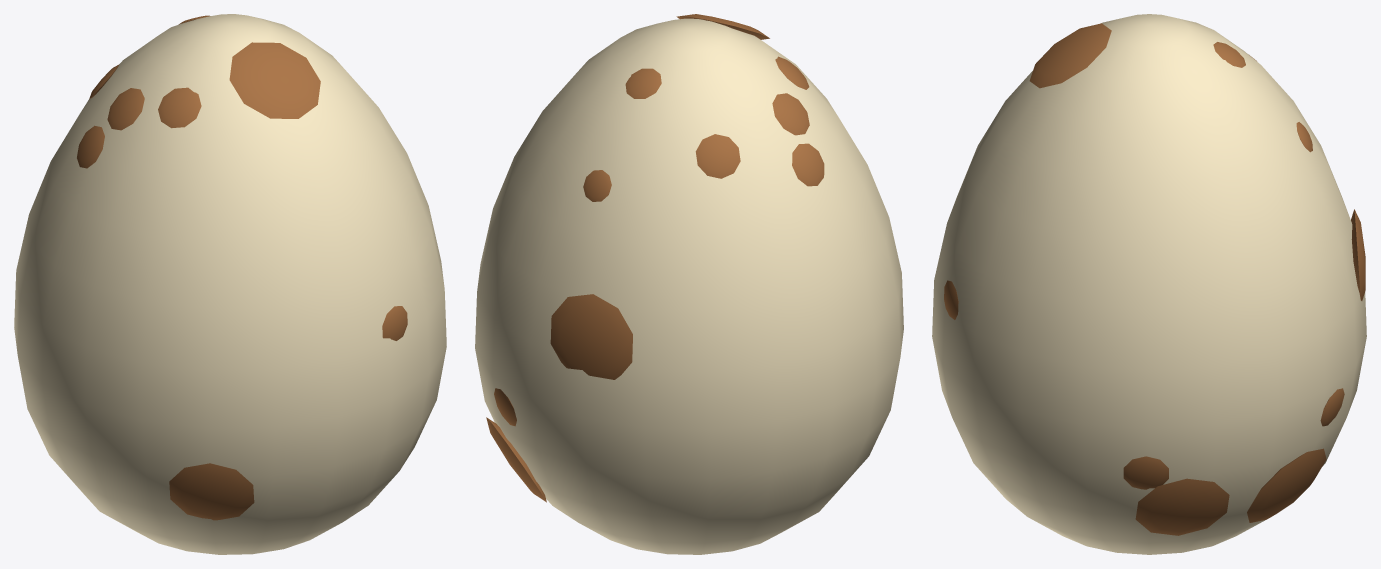
The model's file is egg-basic.glb.
3 renders of one model, left to right at view 1: azimuth 30°, elevation 25°; view 2: azimuth 150°, elevation 25°; view 3: azimuth 270°, elevation 25°, orthographic.
Visible parts, largest first — view 1: EggBasic_Shell, EggBasic_Spots; view 2: EggBasic_Shell, EggBasic_Spots; view 3: EggBasic_Shell, EggBasic_Spots.
Boxes of the visible parts, x1,y1,x2,y2 form: EggBasic_Shell: [14, 14, 446, 554]; EggBasic_Spots: [77, 15, 407, 520]; EggBasic_Shell: [475, 18, 903, 554]; EggBasic_Spots: [486, 14, 824, 502]; EggBasic_Shell: [932, 14, 1366, 554]; EggBasic_Spots: [944, 23, 1365, 535].
Size of the model in its own units: 2.63 by 3.4 by 2.63.
